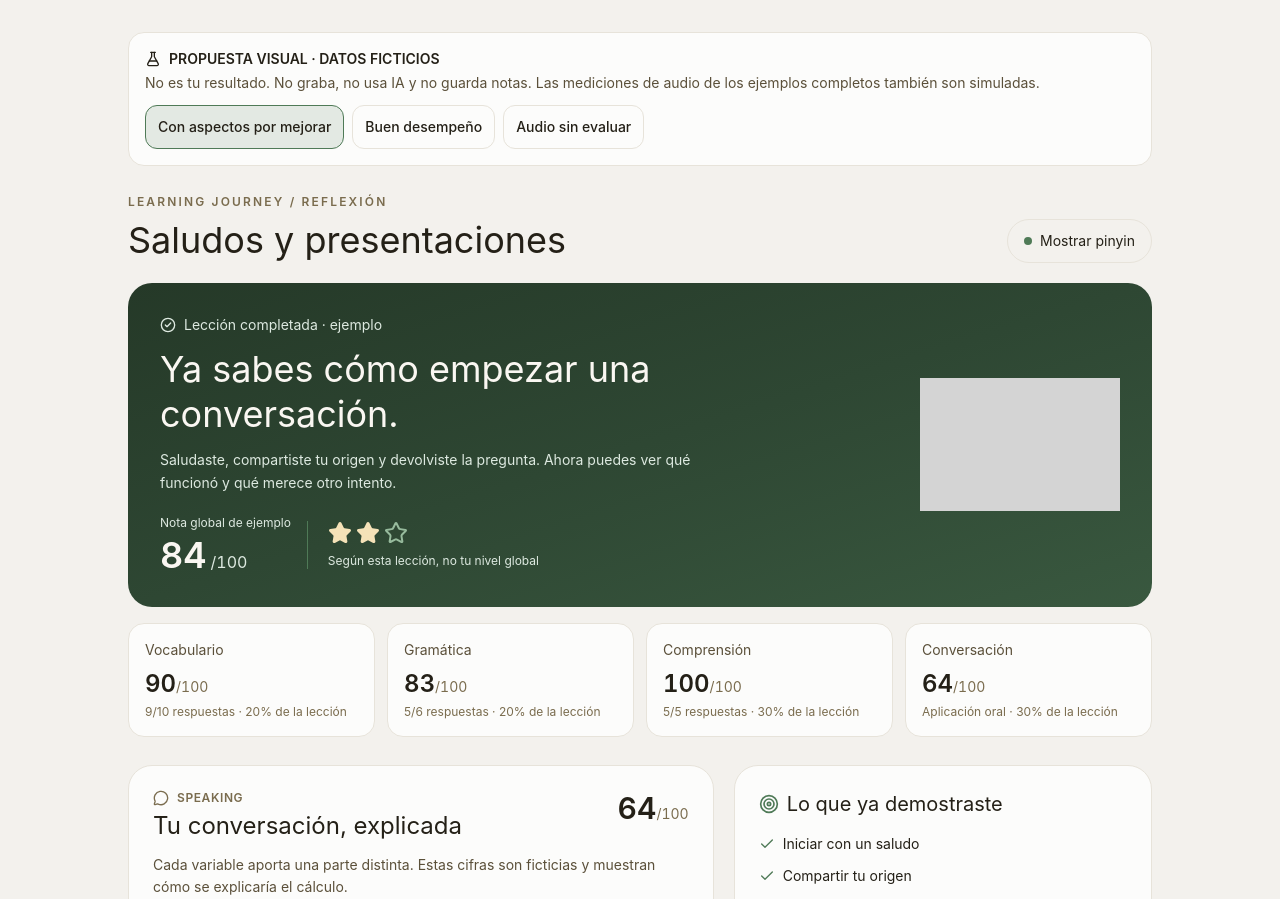
Test: isolated reflection design proposal › does not manufacture an acoustic error or global grade in a partial example
What coordinates should you click on to do the following:
click the button "Audio sin evaluar"
I would click on:
 (574, 127)
Its box is [503,105,644,149].
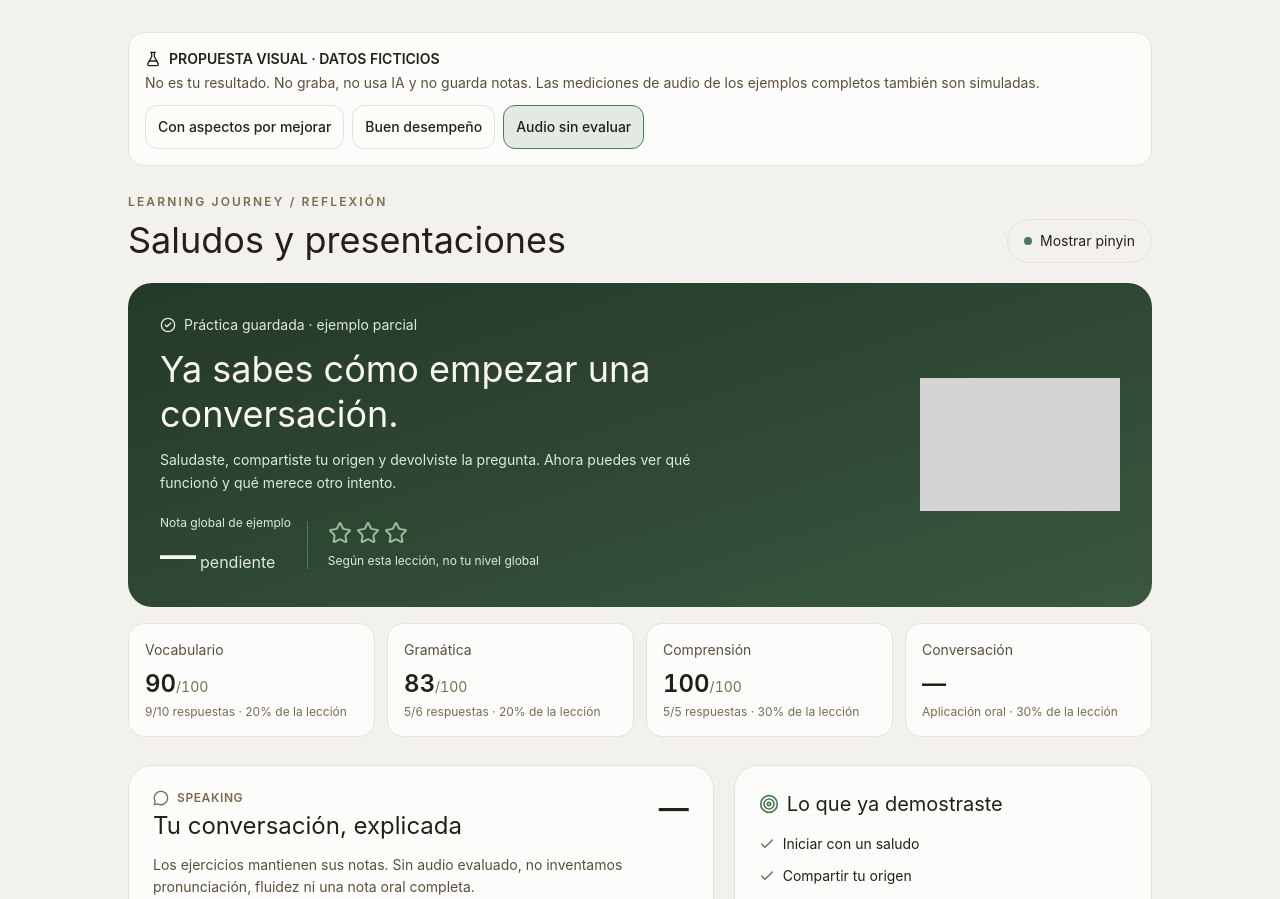
expect the text "pendiente" is shown: met, box [200,552,275,572]
expect the picture named "Estrellas pendientes" is shown: met, box [328,520,408,544]
